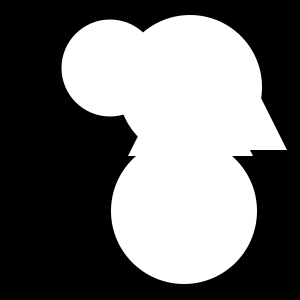rectangle: (111, 138, 257, 284), (118, 15, 262, 159), (61, 20, 158, 116)
triangle: (162, 25, 287, 150), (128, 31, 253, 156)
